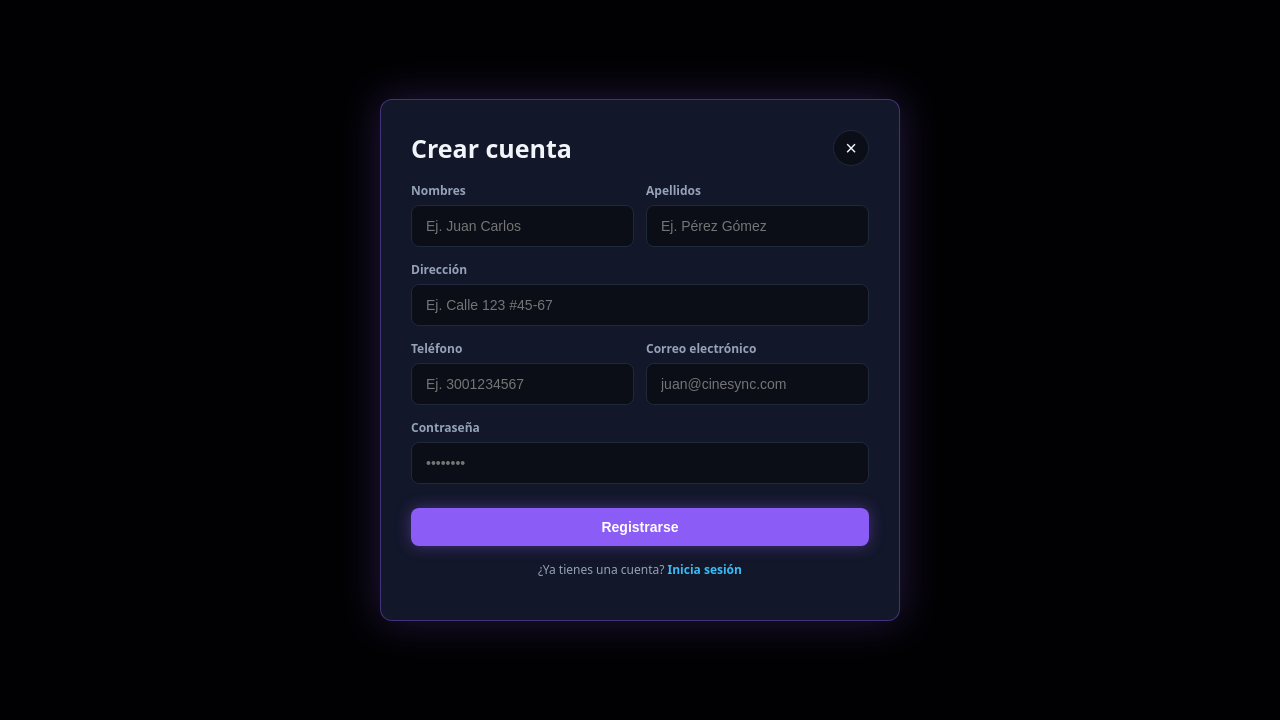
Test case: RegisterPageComponent › rejects an email that is already registered and stays open
Step 1. Type "Juan Carlos" into the field with id "register-firstName" → (522, 226), box [411, 205, 634, 247]
Step 2. Type "Pérez Gómez" into the field labelled "Apellidos" → (758, 226), box [646, 205, 869, 247]
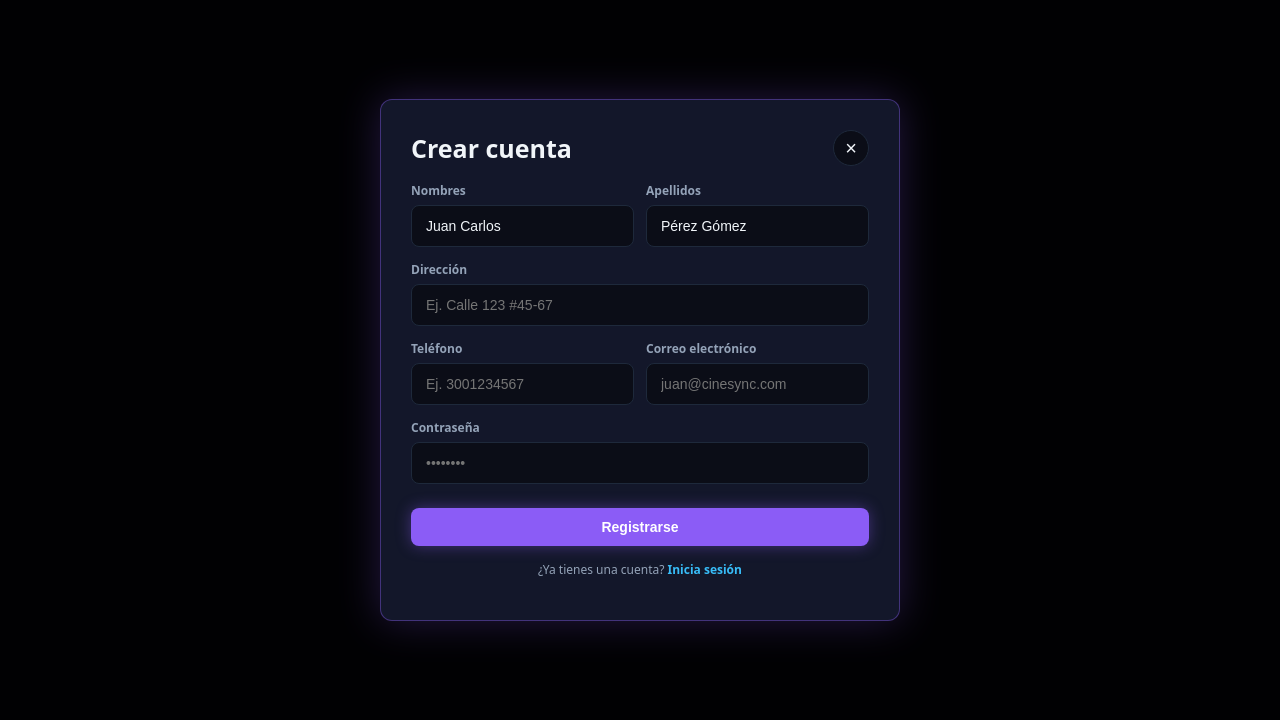
Step 3. Type "Calle 123 #45-67" into the field with id "register-address" → (640, 305), box [411, 284, 869, 326]
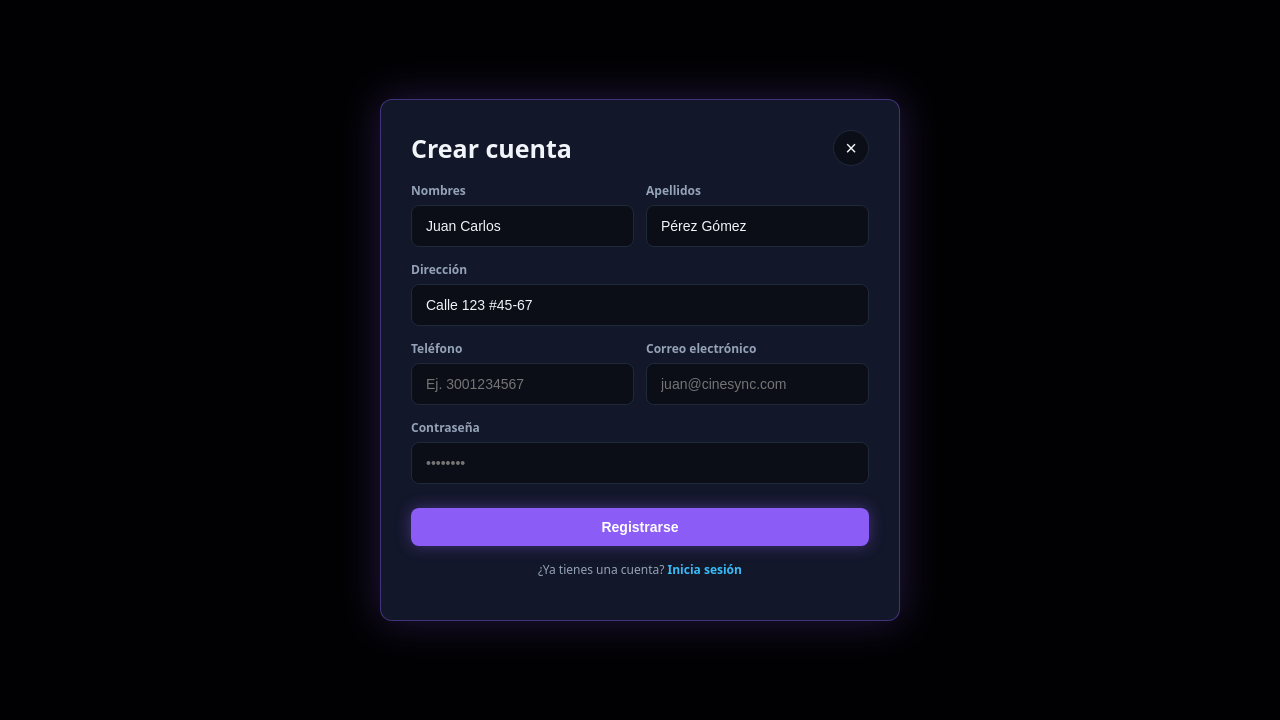
Step 4. Type "3001234567" into the field with id "register-phone" → (522, 384), box [411, 363, 634, 405]
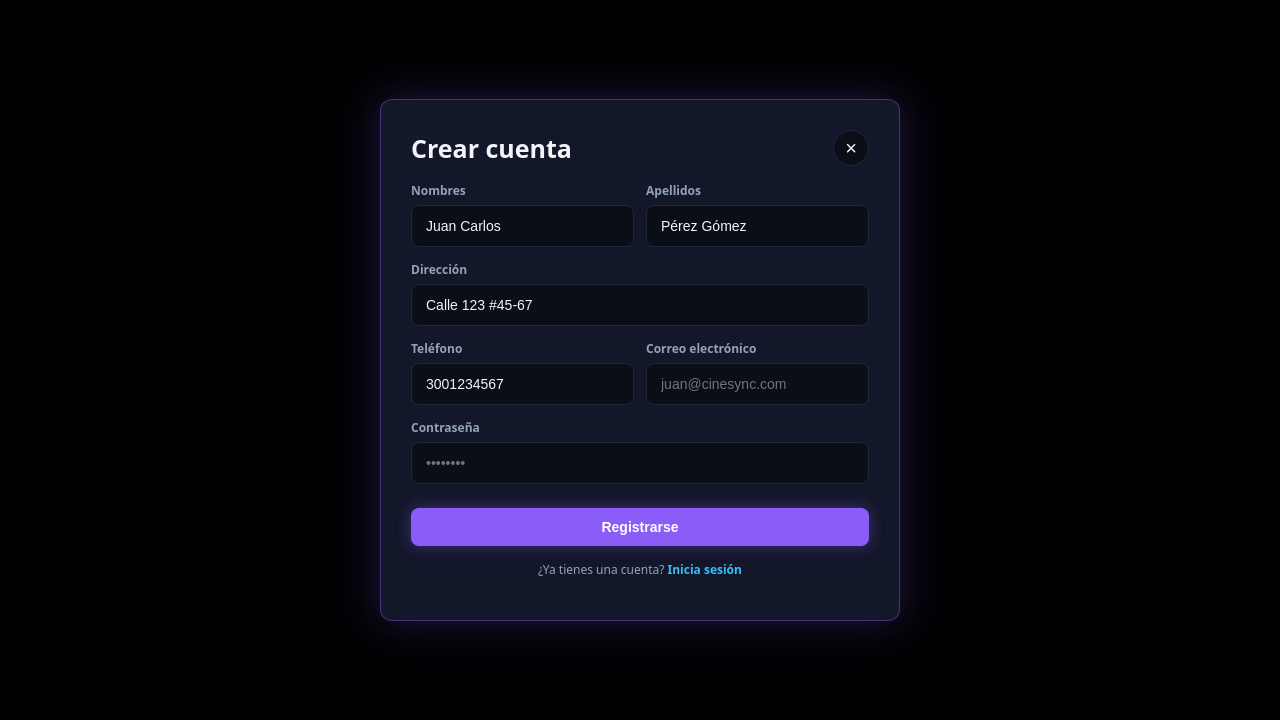
Step 5. Type "taken@cinesync.com" into the field labelled "Correo electrónico" → (758, 384), box [646, 363, 869, 405]
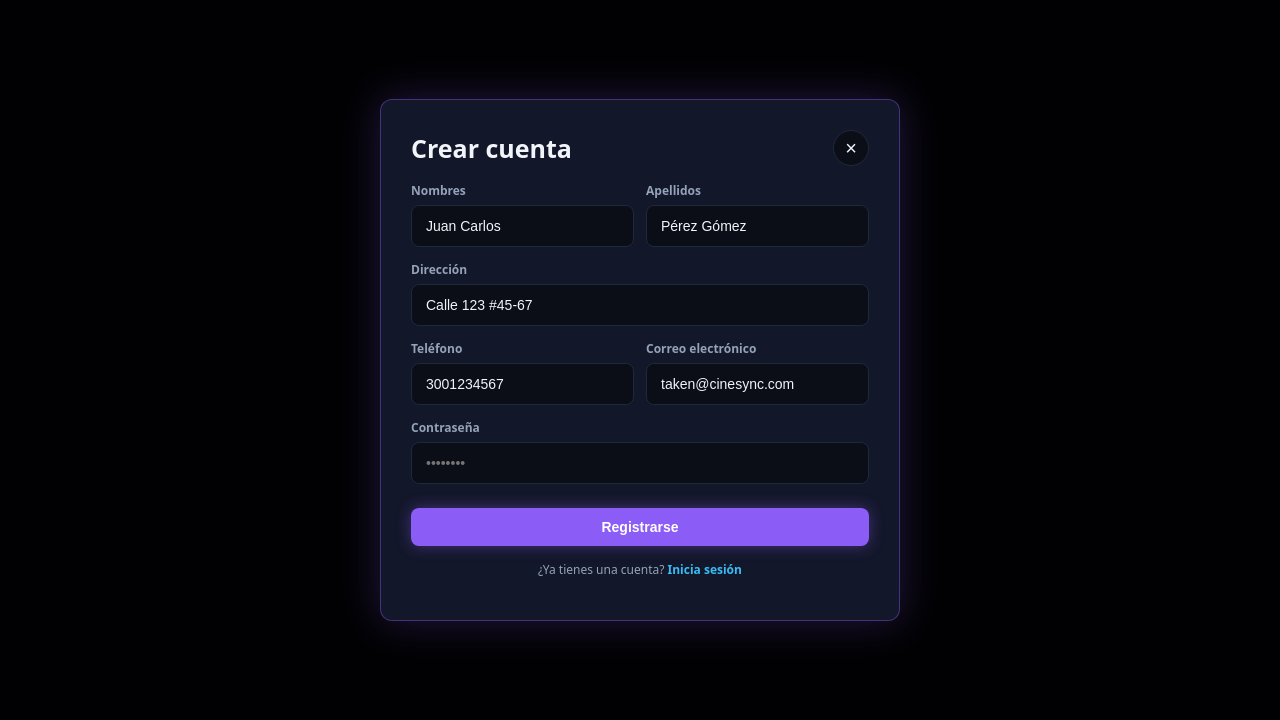
Step 6. Type "SecurePass123!" into the password field labelled "Contraseña" → (640, 463), box [411, 442, 869, 484]
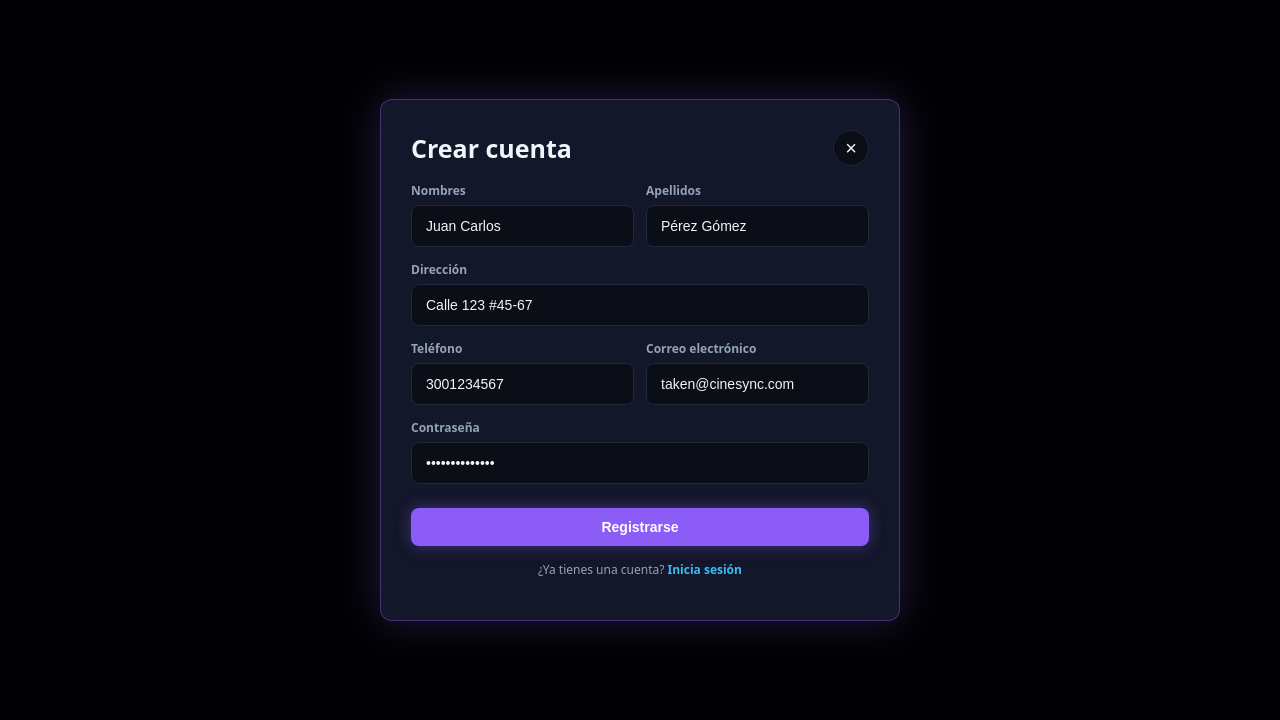
Step 7. Submit the form, box [411, 182, 869, 546]
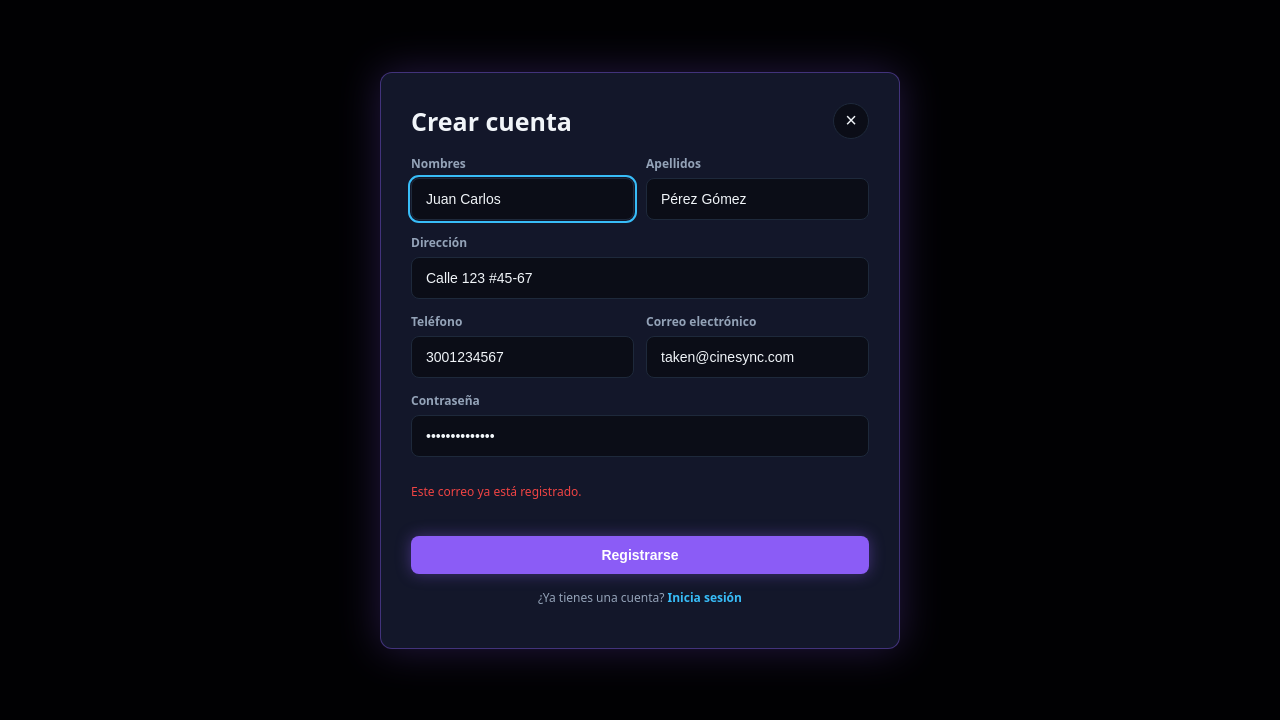
expect the message "Este correo ya está registrado." is shown: met, box [411, 482, 582, 500]
